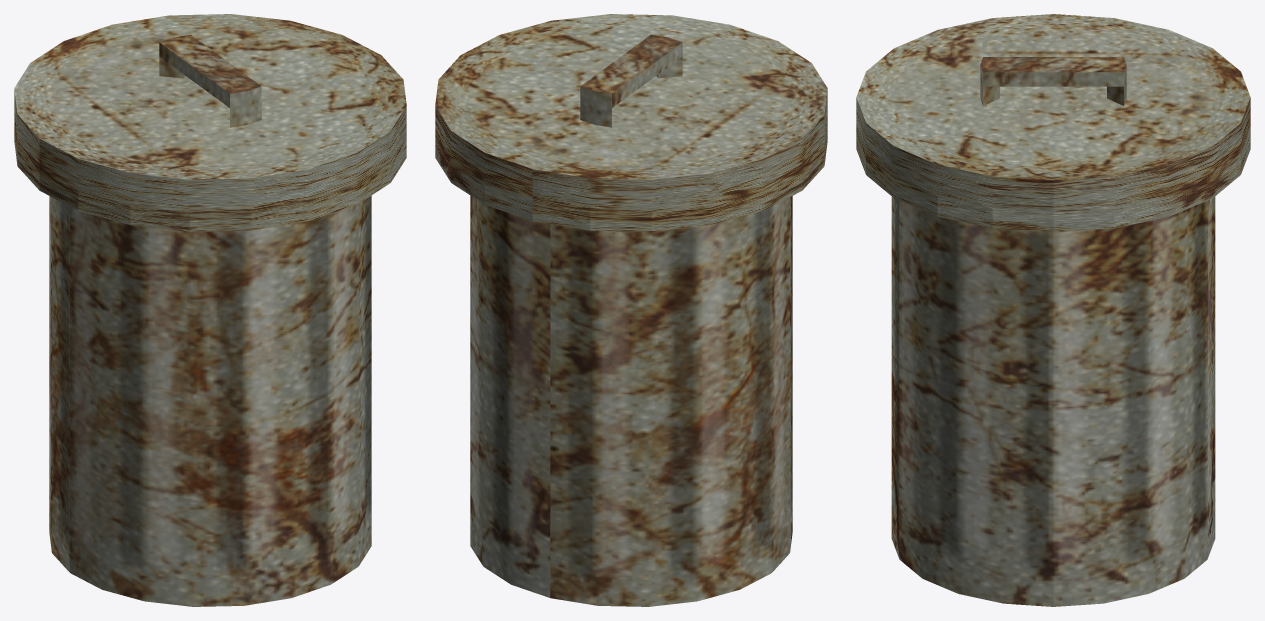
File: TrashCan.fbx
The picture shows the model from 3 angles, left to right: view 1: azimuth 30°, elevation 25°; view 2: azimuth 150°, elevation 25°; view 3: azimuth 270°, elevation 25°; orthographic projection.
Parts seen in each view (by area): view 1: polySurface1; view 2: polySurface1; view 3: polySurface1.
Boxes of the visible parts, bbox=[...] form: polySurface1: bbox=[14, 14, 406, 606]; polySurface1: bbox=[435, 14, 827, 606]; polySurface1: bbox=[856, 14, 1250, 606].
Bounding box in the file's own units: 4.87 × 6.46 × 4.87.
Materials: 1 (1 with a texture image).
